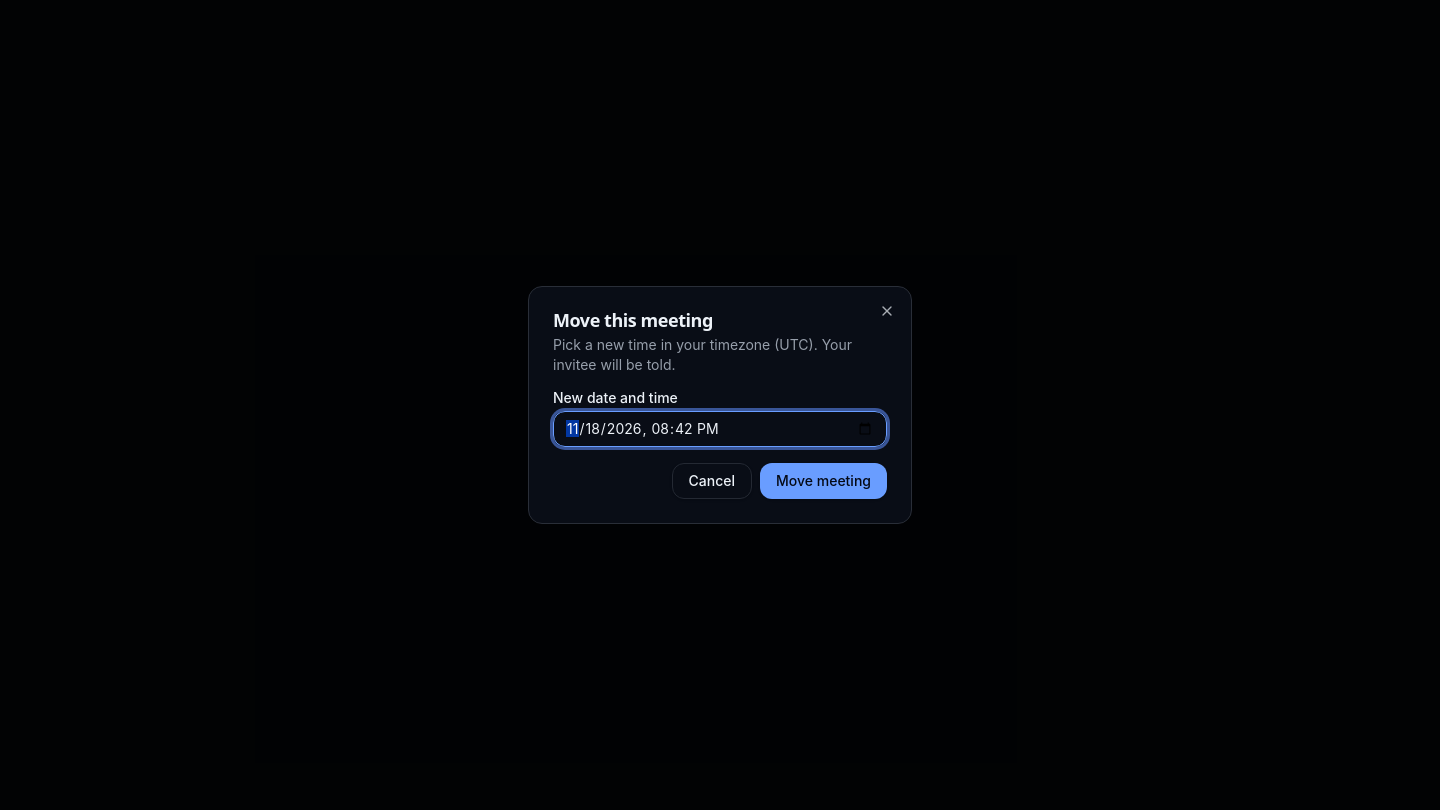
rescheduling › will not send a time in the past
The image size is (1440, 810).
Replace the text in the field labelled "New date and time" with "2001-01-01T10:00" at (720, 429), box [553,411,887,447]
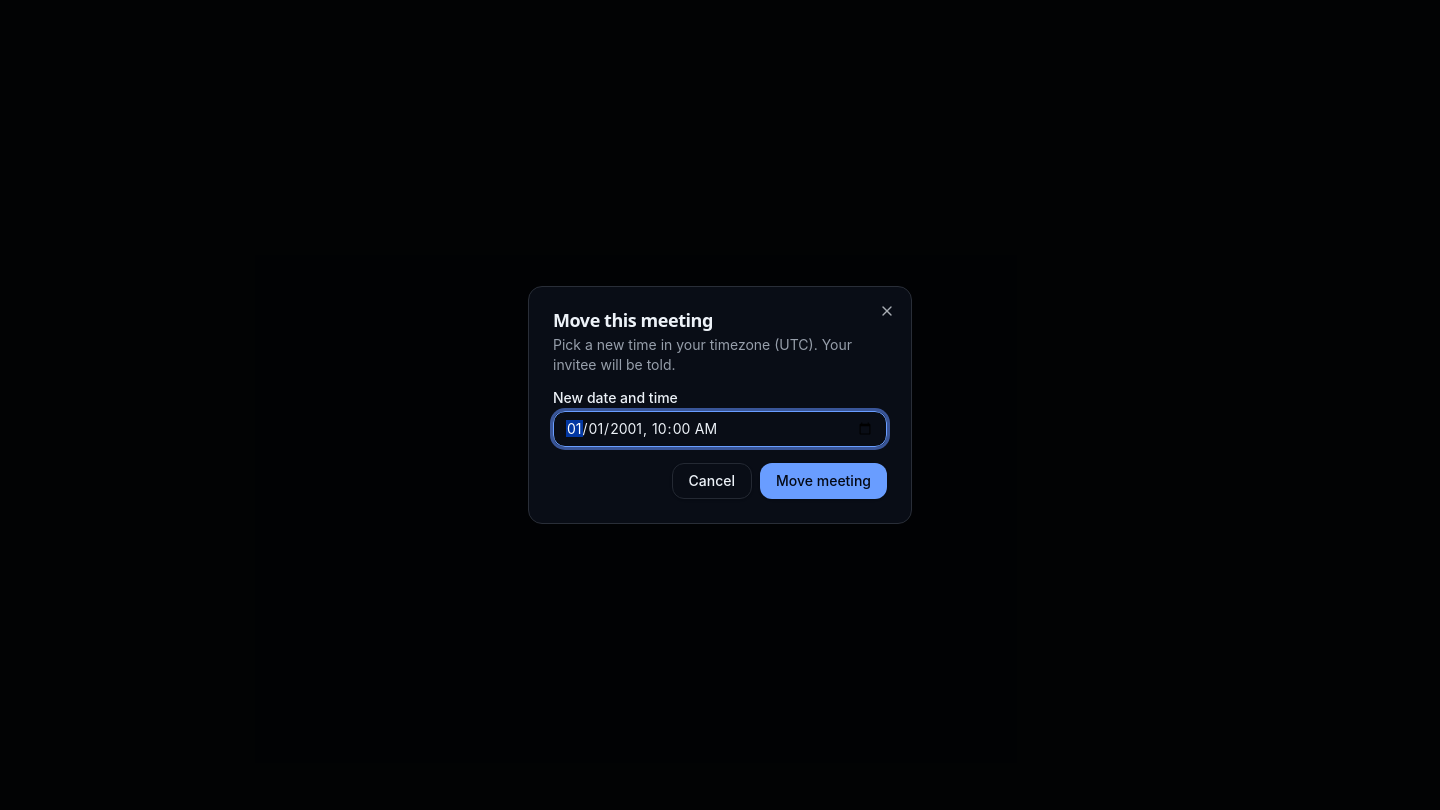
Click the button "Move meeting".
click(824, 481)  # box [760,463,887,499]
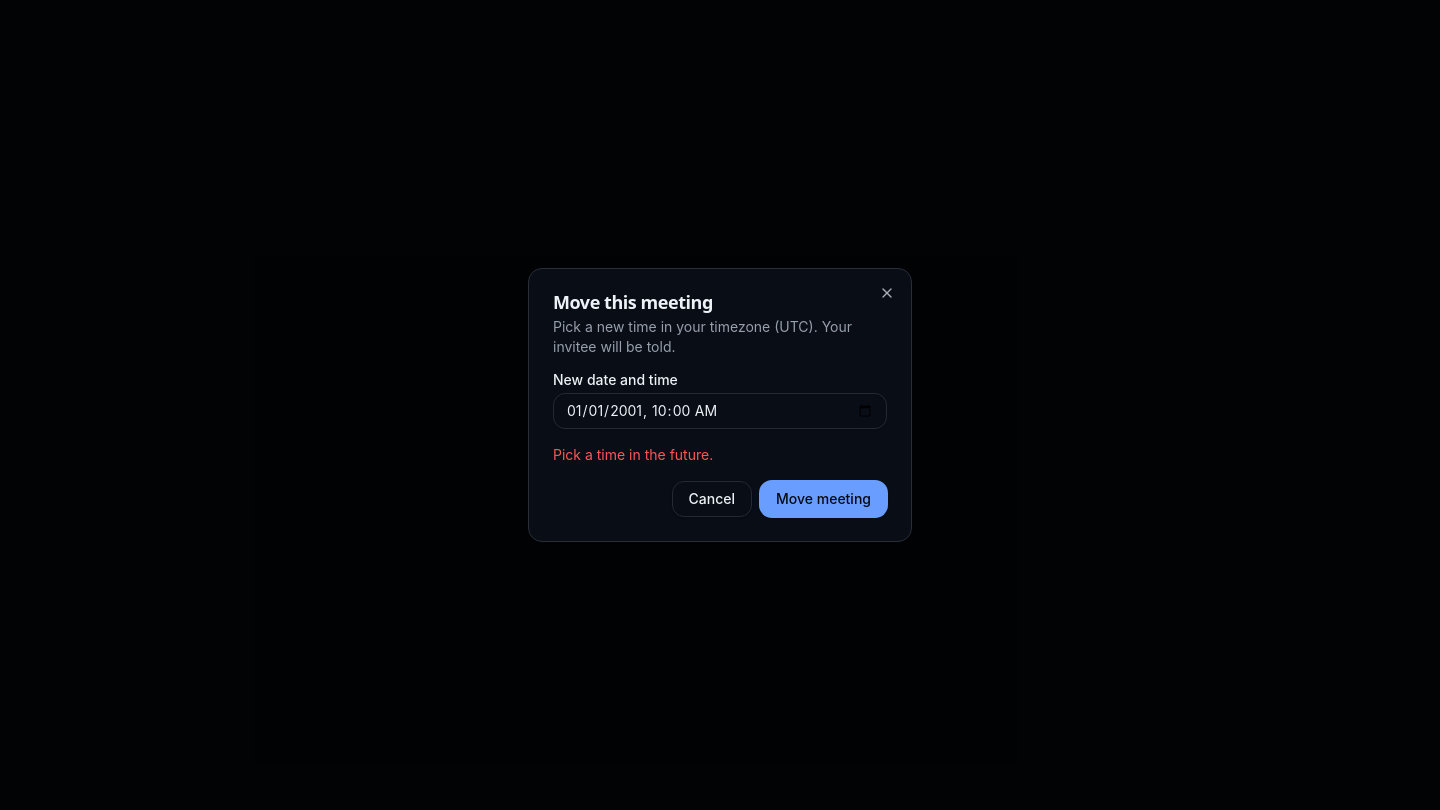
Expected: the message shows "future", [553,446,713,463]
